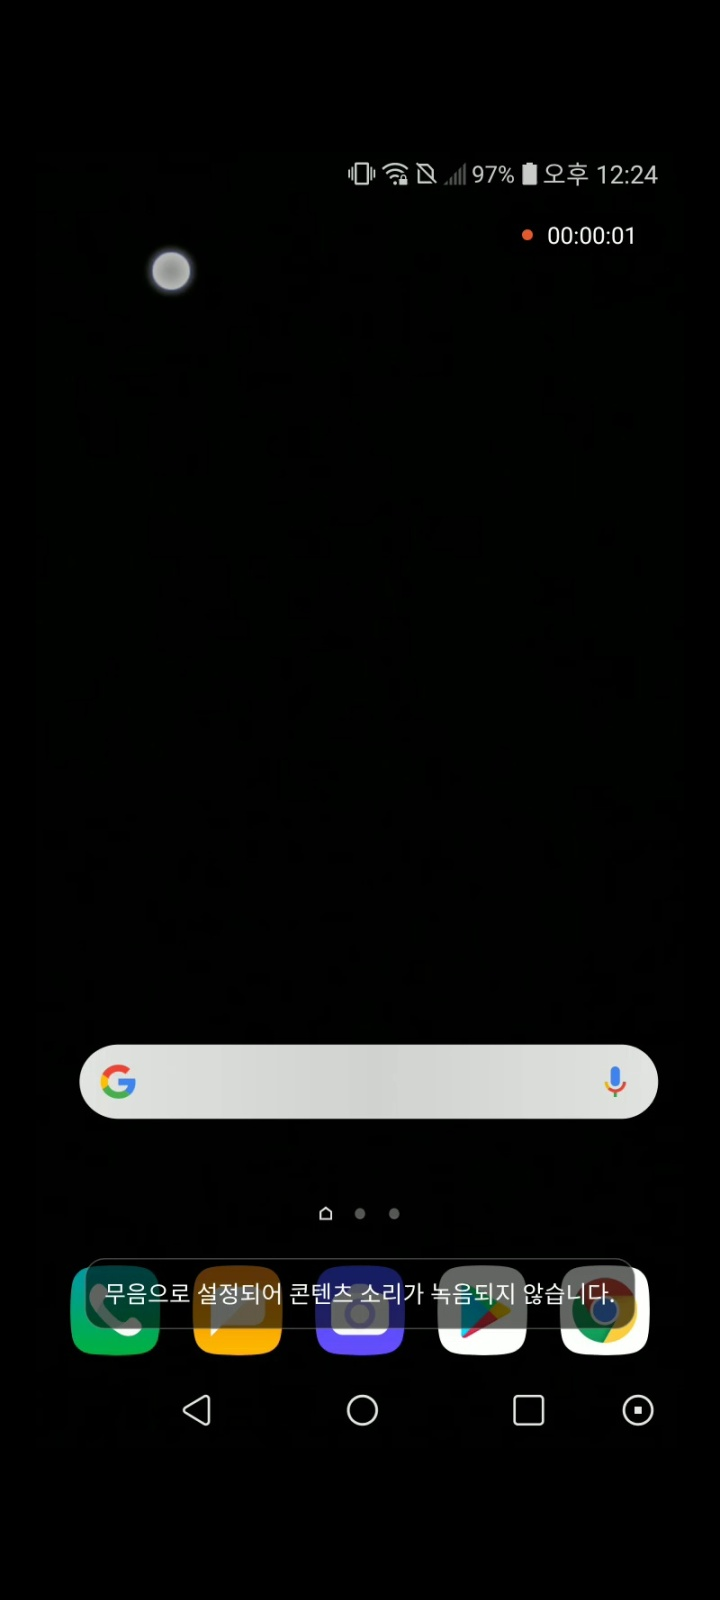Cursor: (149, 249, 194, 294)
